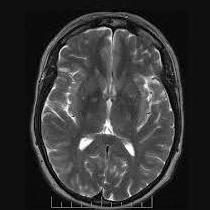Normal_Brain: (1, 2, 210, 210)
